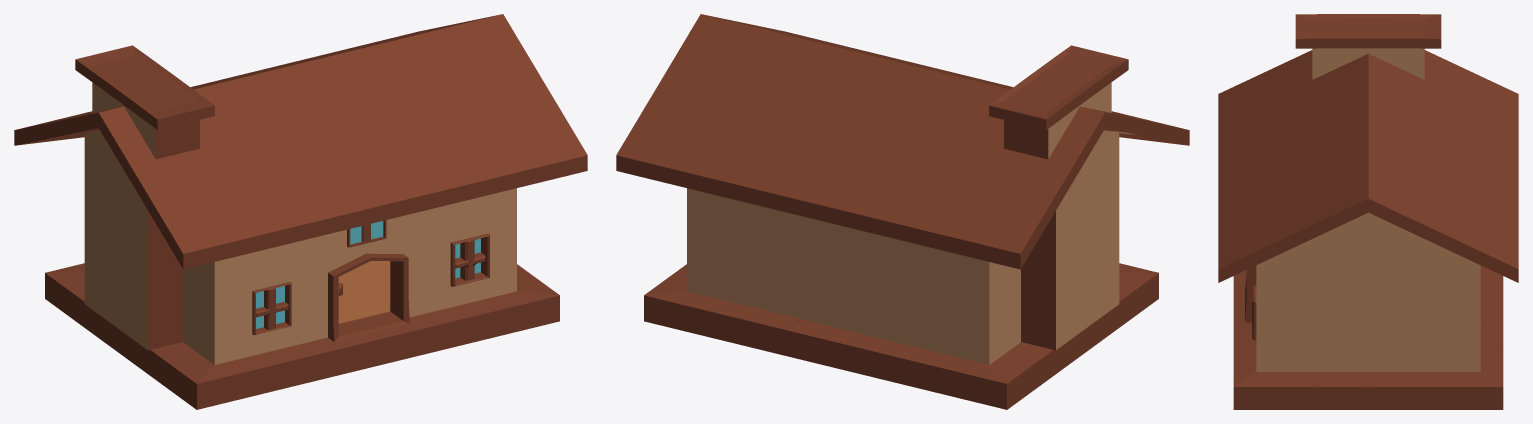
File: House.fbx
The picture shows the model from 3 angles, left to right: view 1: azimuth 30°, elevation 25°; view 2: azimuth 150°, elevation 25°; view 3: azimuth 270°, elevation 25°; orthographic projection. The views are drawn at different scales.
Parts seen in each view (by area): view 1: House; view 2: House; view 3: House.
Boxes of the visible parts, bbox=[...] form: House: bbox=[14, 14, 587, 409]; House: bbox=[616, 14, 1189, 409]; House: bbox=[1218, 14, 1518, 409].
Size of the model in its own units: 671 by 422 by 486.
Materials: 1 (1 with a texture image).
